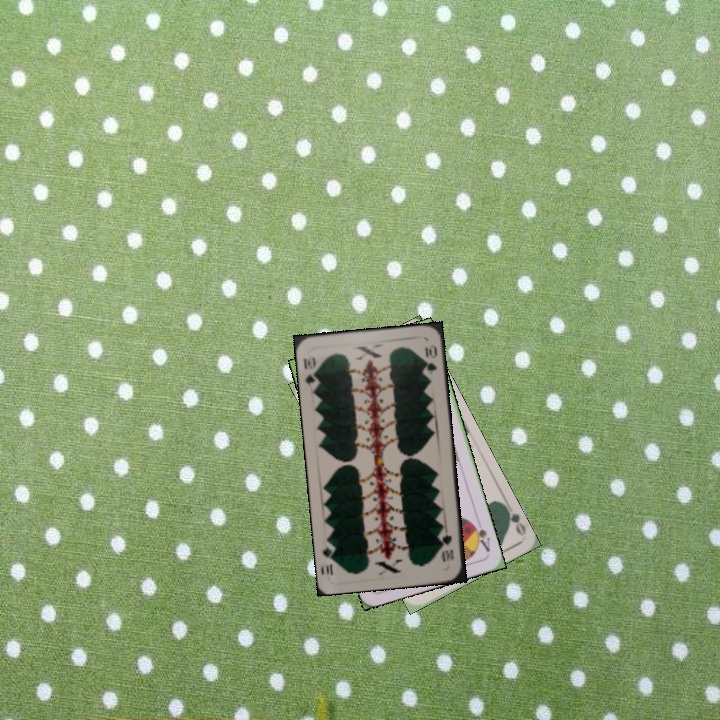G10: (299, 351, 321, 390), (438, 531, 457, 564)
GO: (500, 500, 528, 537)
SA: (467, 516, 493, 555)
